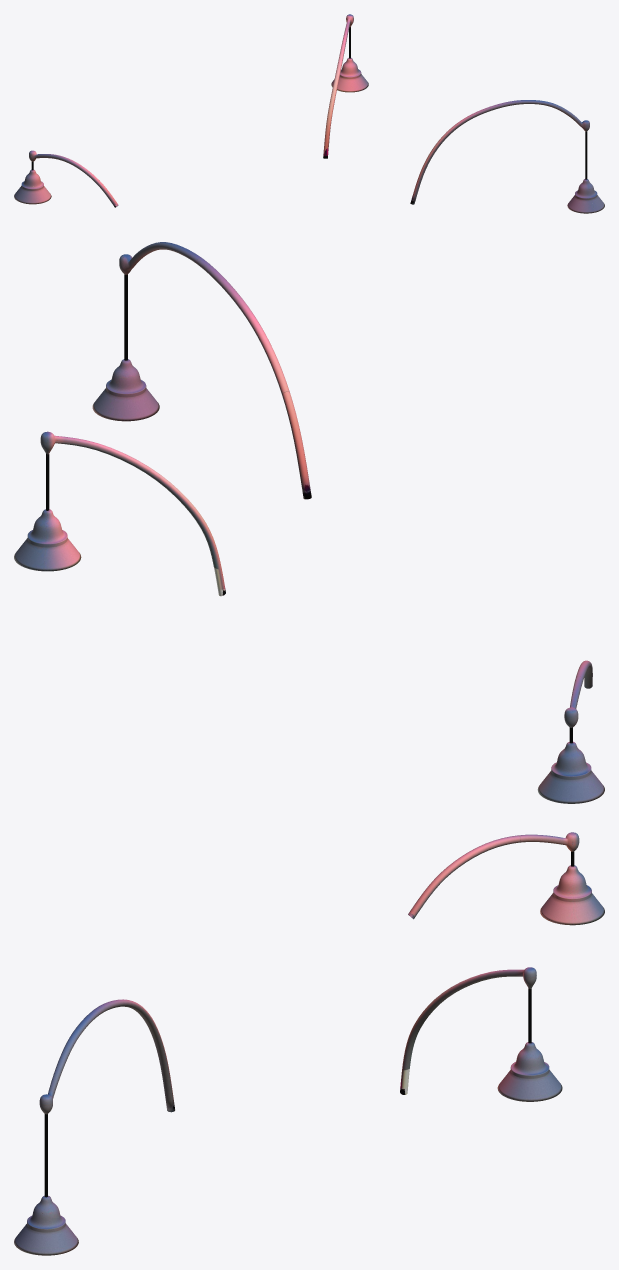
The model's file is lamp.glb.
3 renders of one model, top to bottom at view 1: azimuth 30°, elevation 25°; view 2: azimuth 150°, elevation 25°; view 3: azimuth 270°, elevation 25°, orthographic. The views are drawn at different scales.
Visible parts, largest first — view 1: An Lamp; view 2: An Lamp; view 3: An Lamp.
Part boxes in pixels (<box>): An Lamp: <box>14,14,604,213</box>; An Lamp: <box>14,242,604,803</box>; An Lamp: <box>14,832,604,1255</box>.
Bounding box in the file's own units: 4.46 × 1.14 × 3.05.
2 materials, 1 textured.
